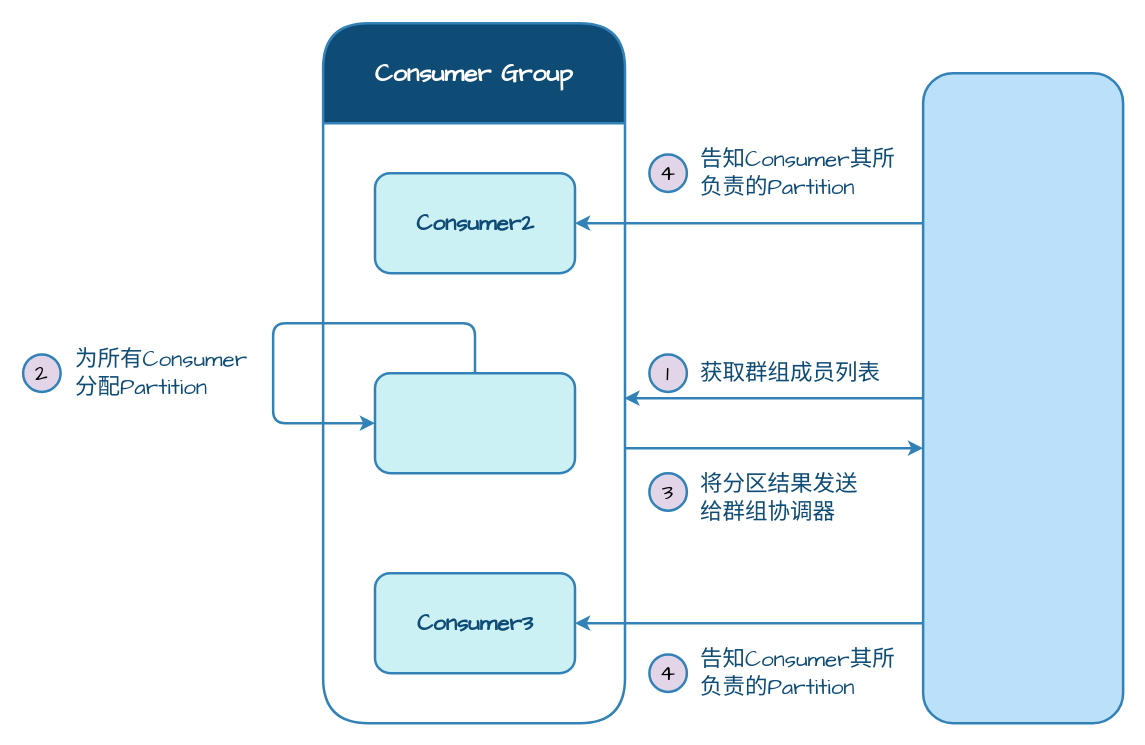
Some shapes in this 1145 by 745 pixel diagram are drawn without their labels. Each missing label, with the centre of its shape:
"Consumer1 （Leader）" goes at [474,422].
"群组协调器 （Coordinator）" goes at [1022,397].
